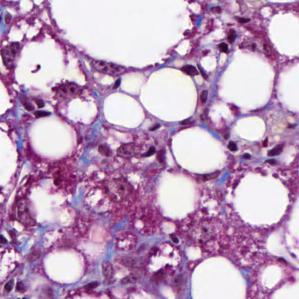inflammation: (13, 84, 54, 122)
